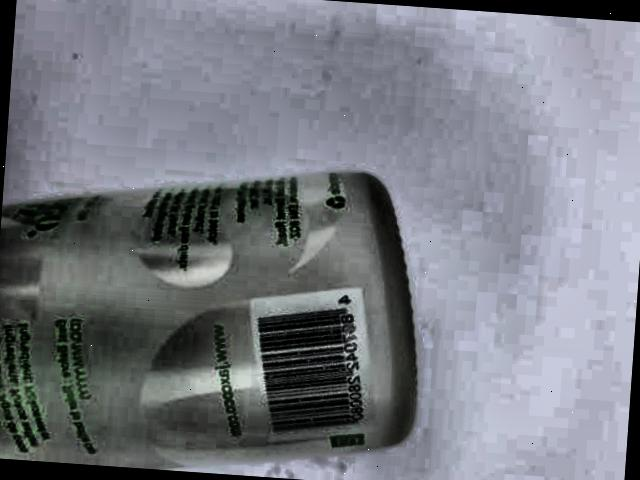Bottles: (0, 107, 510, 480)
